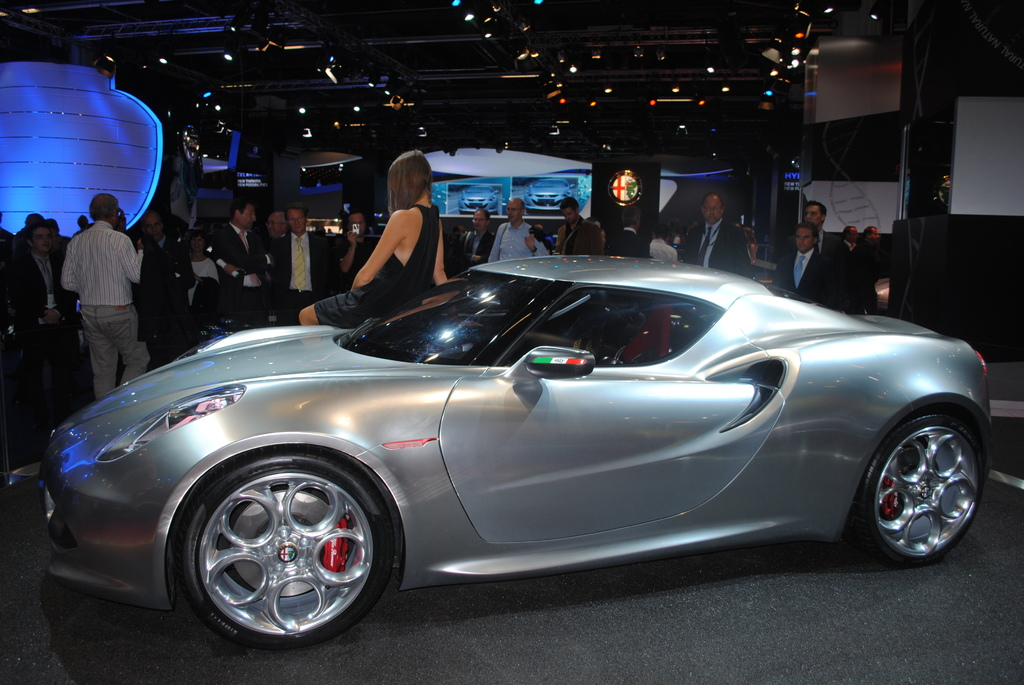cars: (36, 245, 999, 660)
